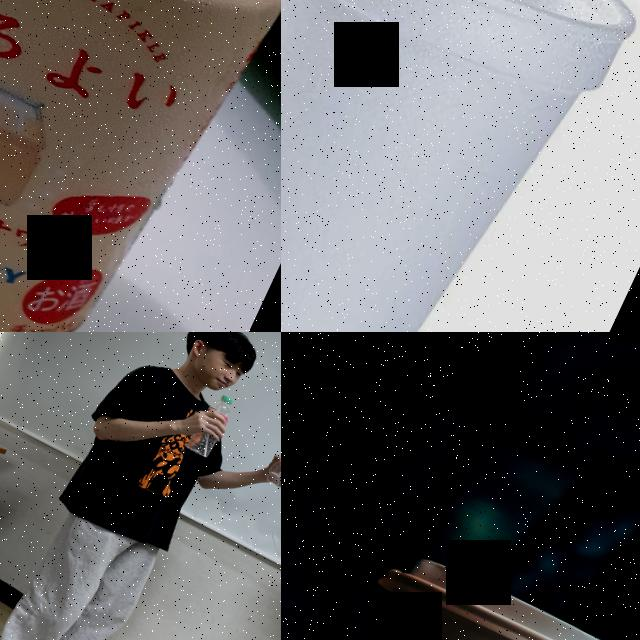bottle: (182, 389, 240, 462), (263, 424, 281, 494)
can: (0, 0, 281, 332)
cup: (281, 0, 640, 332), (281, 538, 640, 640)
